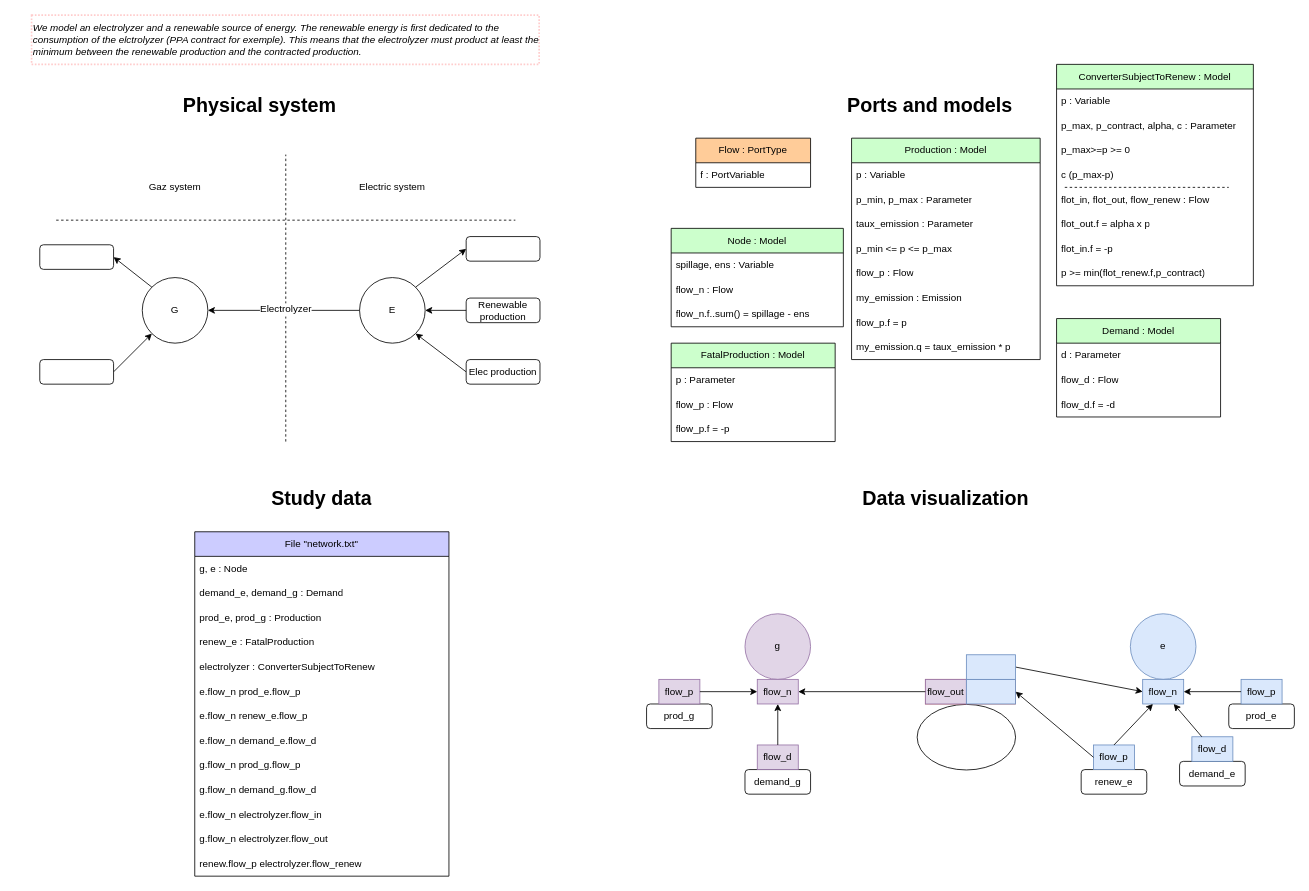
Image size: 1309x891. Some labels were removed from this diagram. Here are the shapes that lost their labels. From the top down, the centre of each, then its label:
At point (76, 256): "Gaz demand".
At point (502, 248): "Elec demand".
At point (76, 371): "Gaz production".
At point (991, 666): "flow_in".
At point (991, 691): "flow_renew".
At point (966, 737): "electrolyser".
